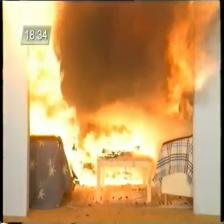fire: (25, 1, 75, 135), (166, 1, 222, 115), (80, 110, 158, 154), (67, 139, 99, 190)
